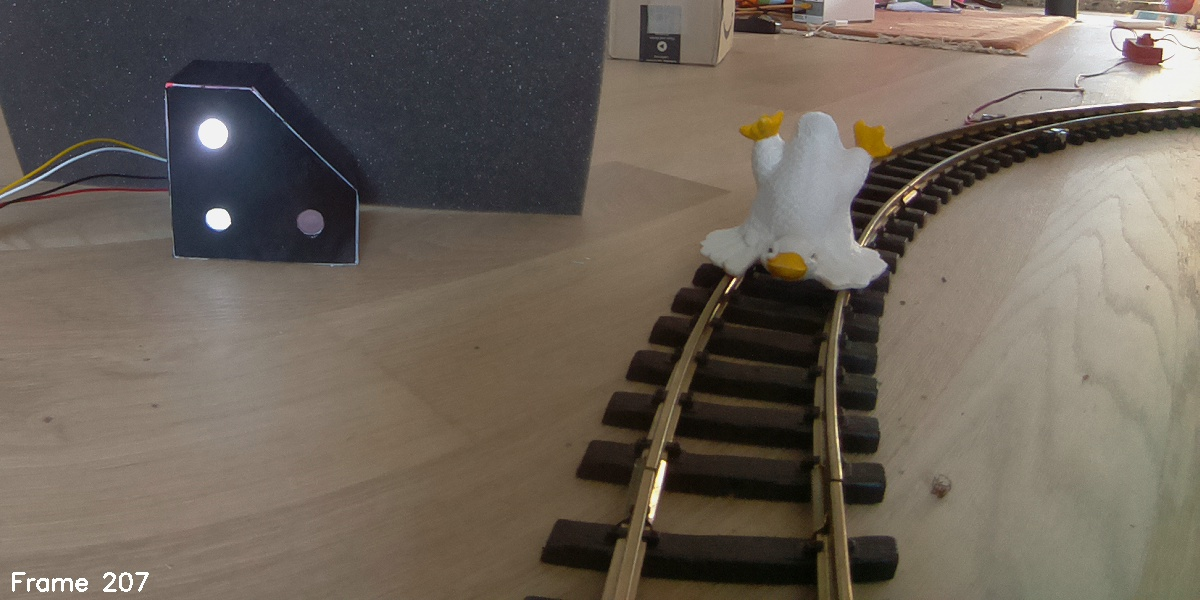Ente: (694, 104, 894, 306)
Fahrt: (167, 63, 361, 261)
